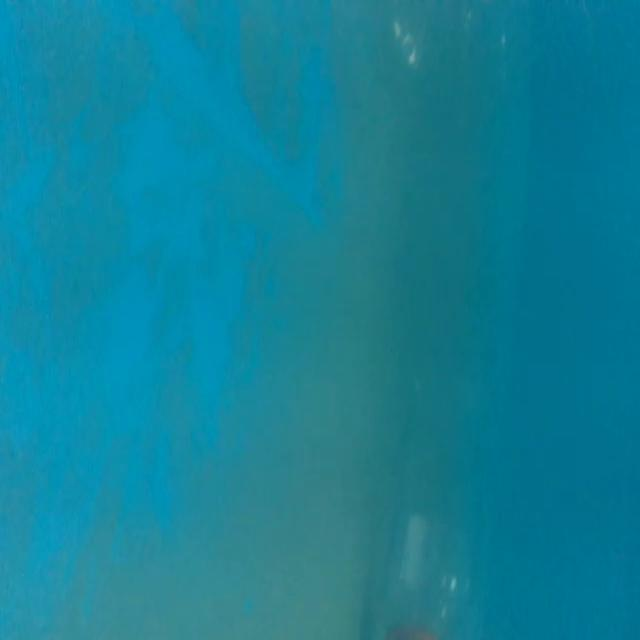plastic bottle: (376, 363, 480, 640)
